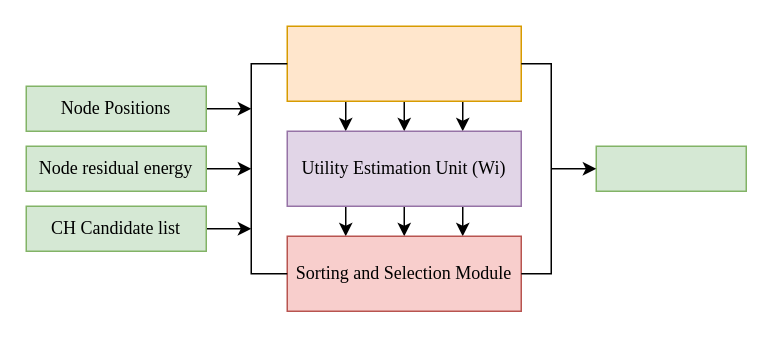
Some shapes in this 773 by 338 pixel diagram are drawn without their labels. The shapes that lost their labels are listed below. From the top down, each one's box as (x1, y1, x2, y2) in pixels, then its label:
(286, 25, 521, 101): Distance Computation Unit (di)
(595, 145, 746, 191): Outputs final CHs
